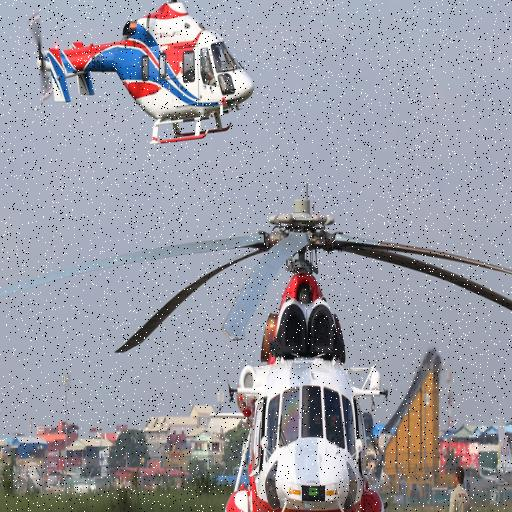helicopter: (46, 183, 512, 512), (25, 1, 270, 160)
